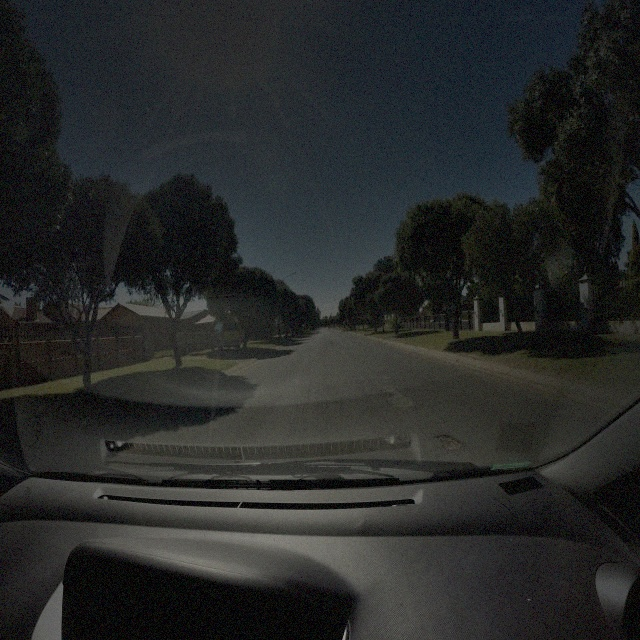pothole: (434, 431, 462, 453)
